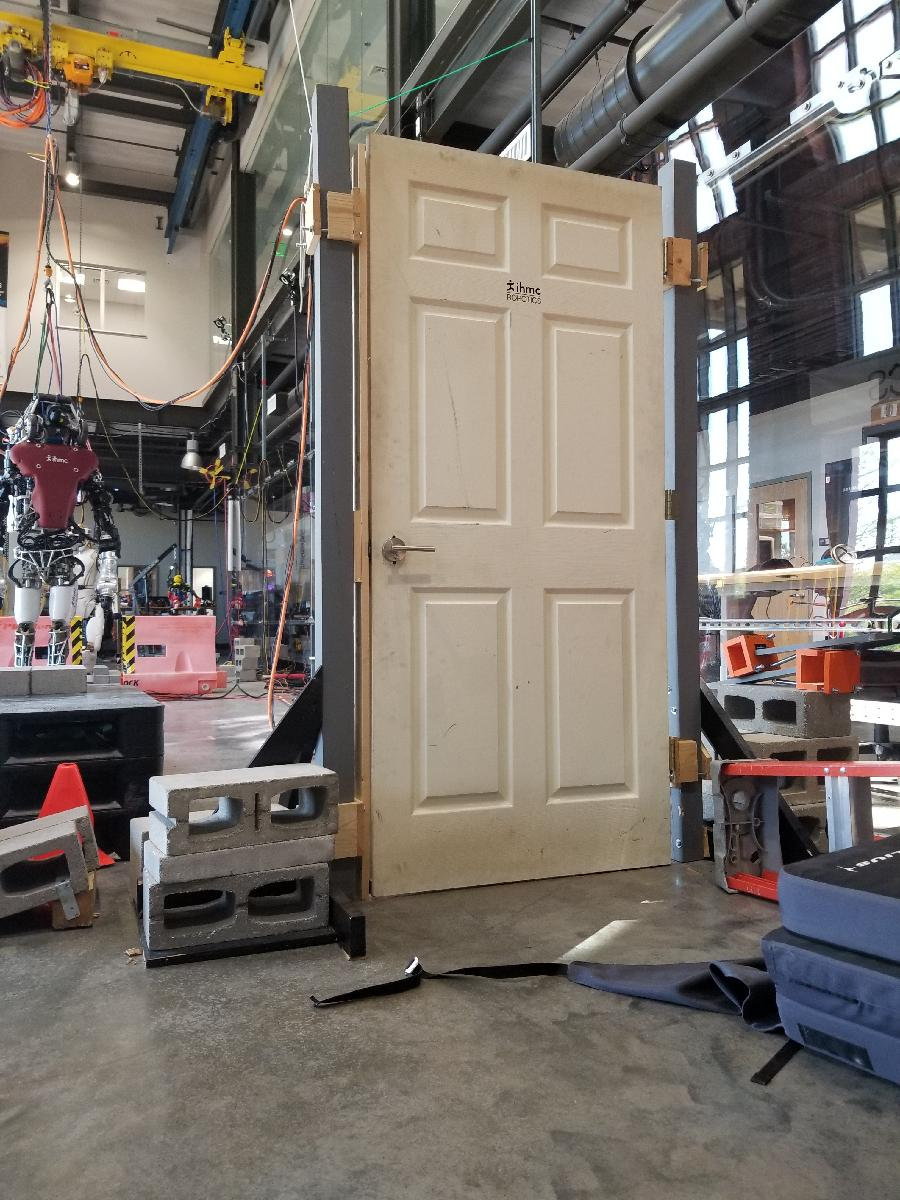door: (356, 133, 678, 905)
doorHandle: (378, 533, 438, 572)
